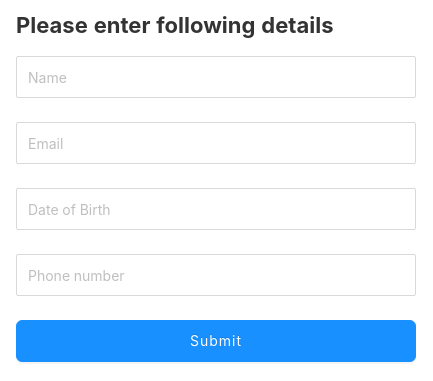
Scenario: all the fields are required
Step 1. Click the button with test id "submit-btn" → coordinates (216, 341), box [16,320,416,362]
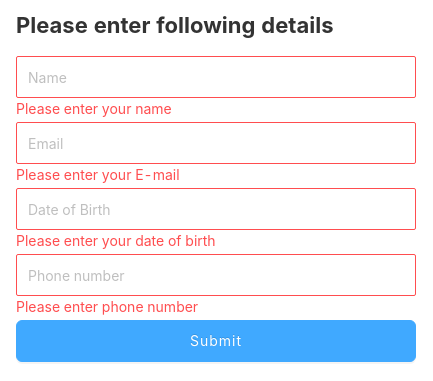
Expected: the number of messages is 4, [16,100,172,117]; [16,166,180,183]; [16,232,216,249]; [16,298,198,315]
